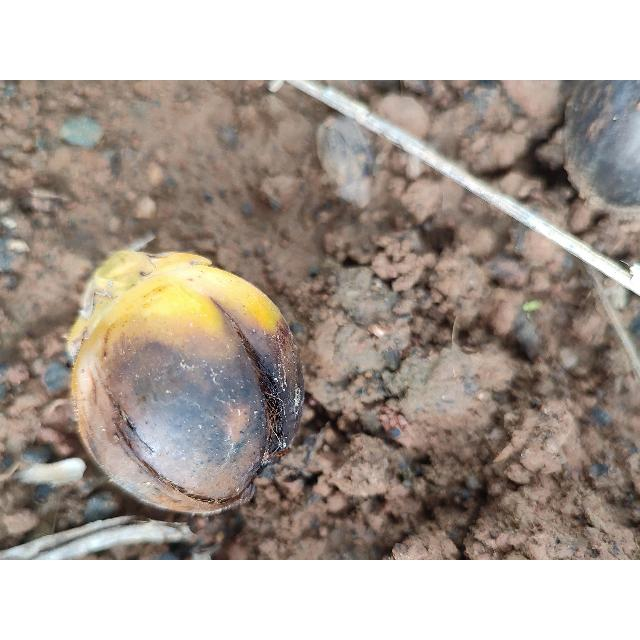damaged: (68, 250, 303, 519)
